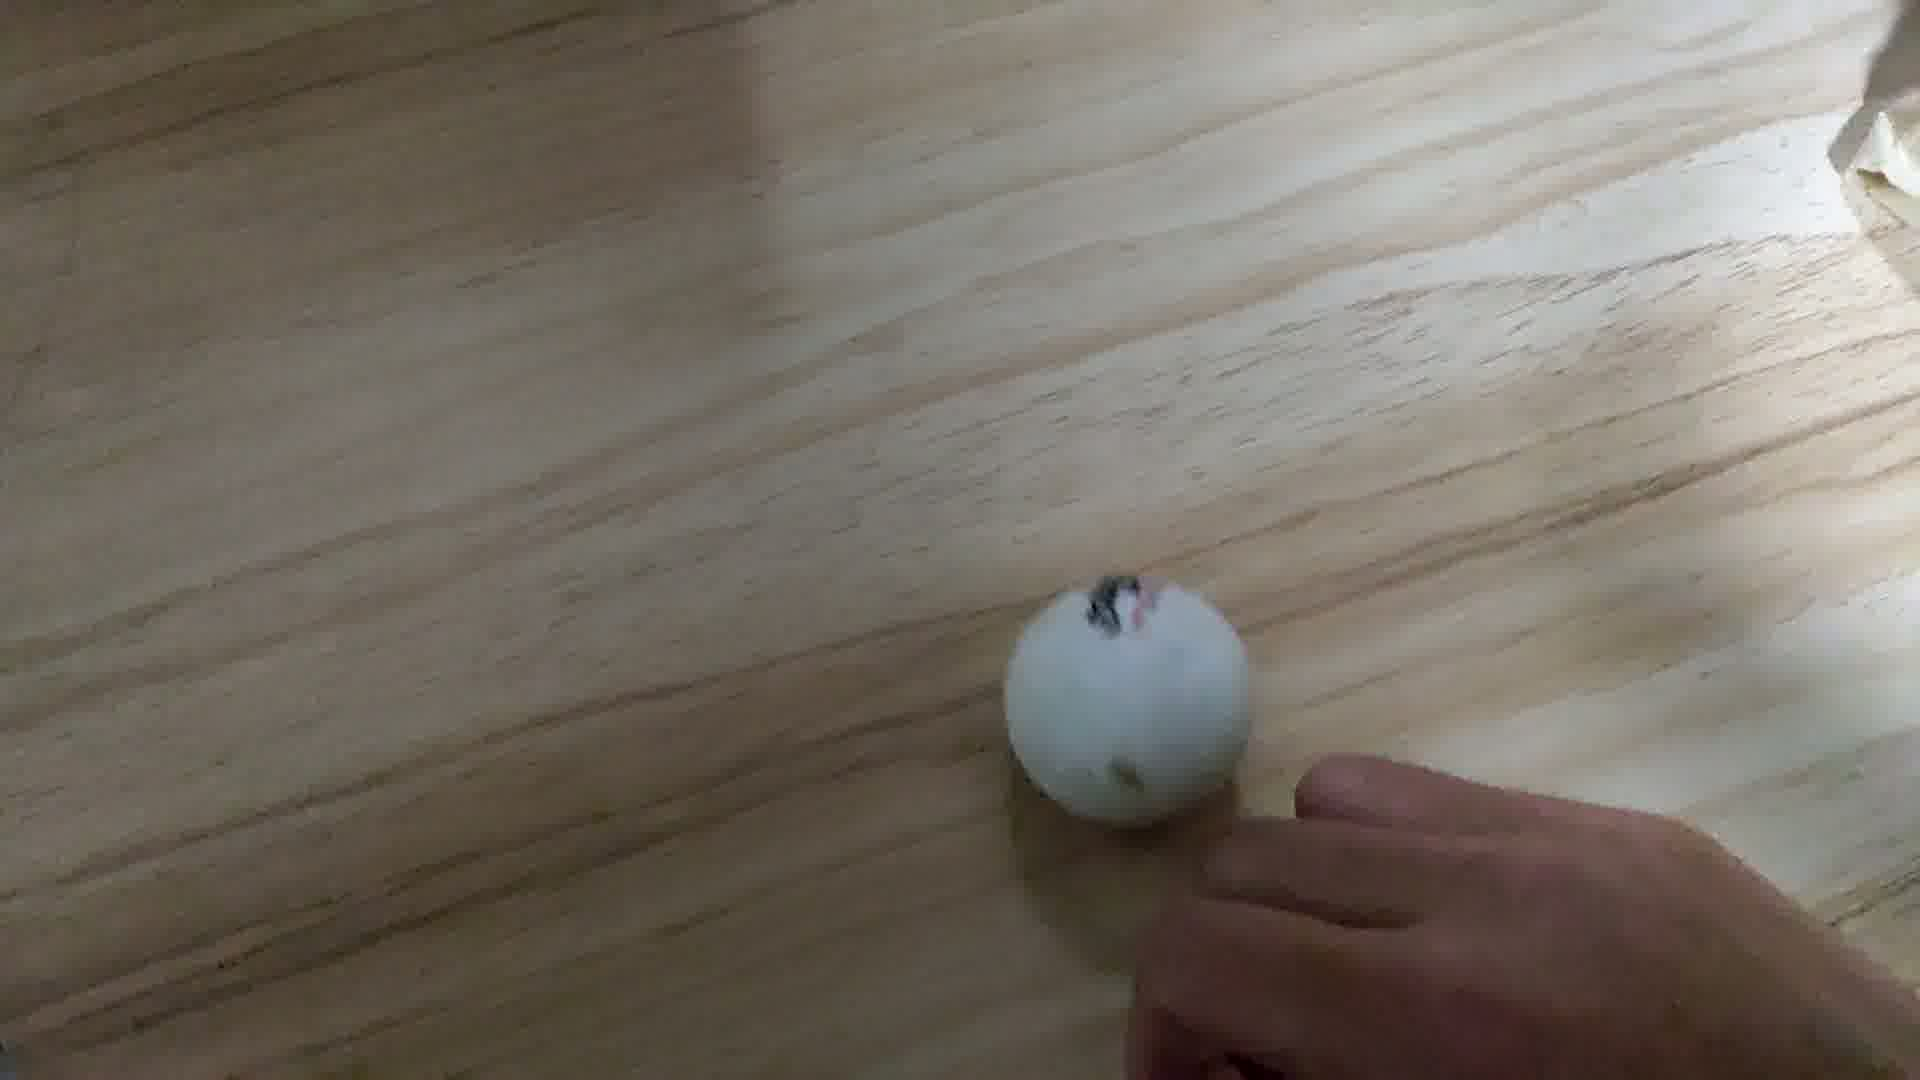Ball: (1001, 574, 1255, 829)
